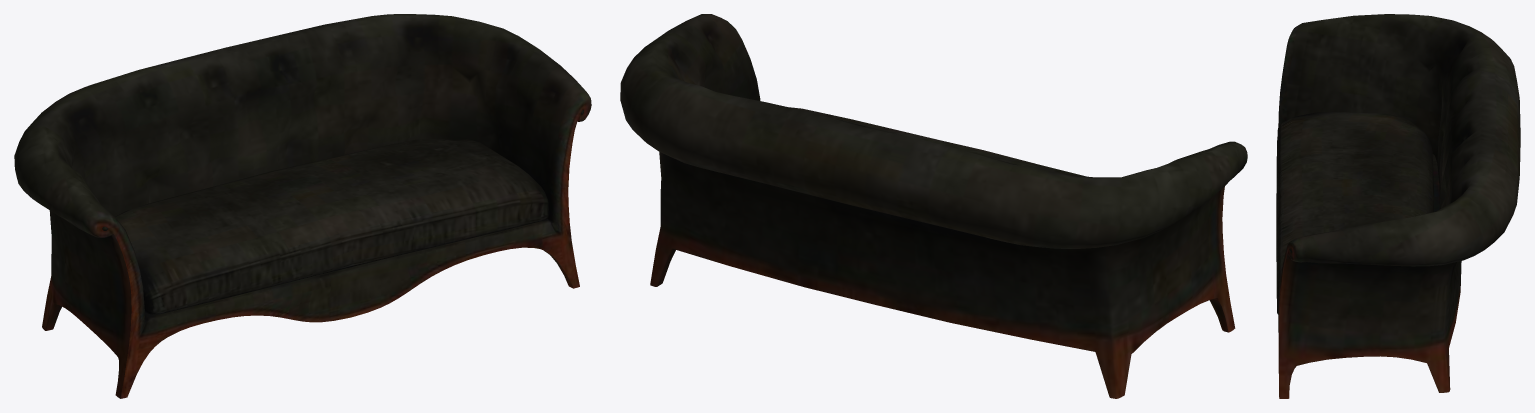
Rendered from sofa_02.gltf.
The picture shows the model from 3 angles, left to right: view 1: azimuth 30°, elevation 25°; view 2: azimuth 150°, elevation 25°; view 3: azimuth 270°, elevation 25°; orthographic projection. The views are drawn at different scales.
Parts seen in each view (by area): view 1: sofa_02_Base, sofa_02_Seat; view 2: sofa_02_Base, sofa_02_Seat; view 3: sofa_02_Base, sofa_02_Seat.
Boxes of the visible parts, <box> form: sofa_02_Base: <box>14,14,591,398</box>; sofa_02_Seat: <box>115,139,549,314</box>; sofa_02_Base: <box>620,14,1247,398</box>; sofa_02_Seat: <box>789,107,1086,176</box>; sofa_02_Base: <box>1278,14,1520,398</box>; sofa_02_Seat: <box>1276,112,1433,314</box>.
Size of the model in its own units: 1.81 by 0.7095 by 0.8178.
